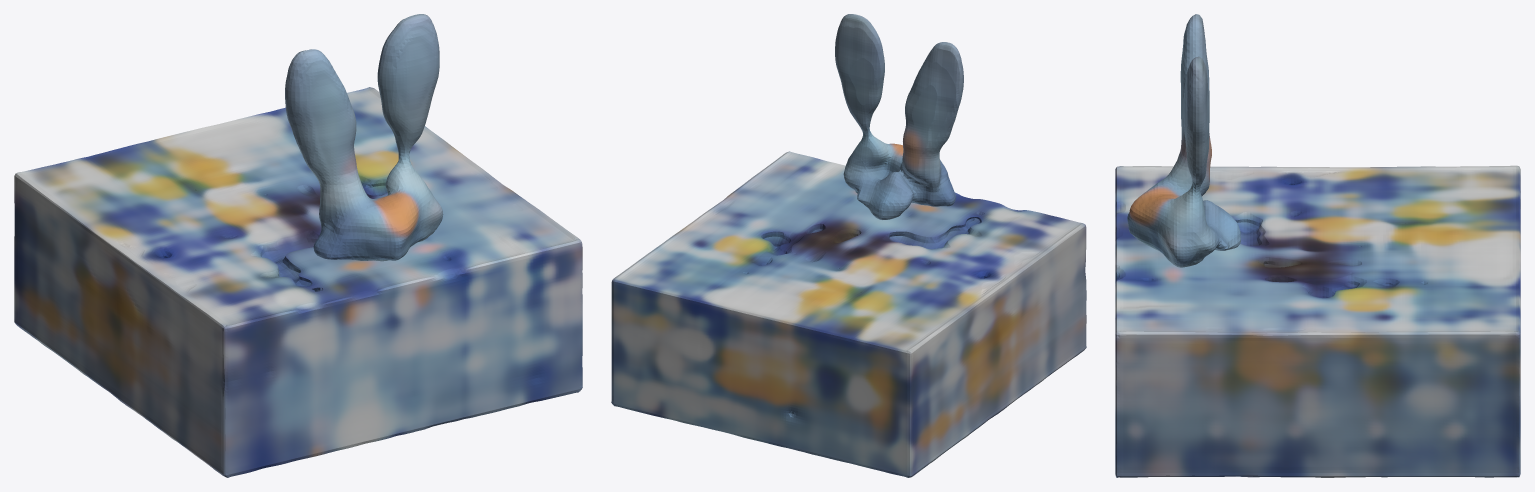
3 views of the same model, side by side, from view 1: azimuth 30°, elevation 25°; view 2: azimuth 150°, elevation 25°; view 3: azimuth 270°, elevation 25° (orthographic). The views are drawn at different scales.
Visible parts, largest first — view 1: tmp0jwf2846.ply; view 2: tmp0jwf2846.ply; view 3: tmp0jwf2846.ply.
Boxes of the visible parts, left/top/right/bottom form: tmp0jwf2846.ply: left=14, top=14, right=582, bottom=477; tmp0jwf2846.ply: left=611, top=14, right=1086, bottom=477; tmp0jwf2846.ply: left=1115, top=14, right=1520, bottom=477.
Size of the model in its own units: 1.95 by 1.95 by 1.98.
